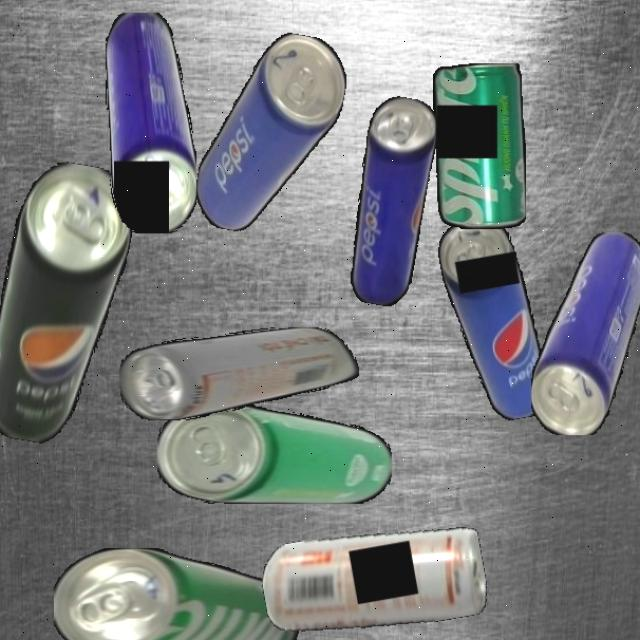debris: (0, 155, 142, 452), (190, 22, 353, 245), (257, 511, 491, 640), (434, 212, 551, 427), (157, 403, 392, 504), (119, 326, 359, 421), (54, 547, 299, 640), (339, 93, 443, 309), (530, 231, 640, 435), (105, 12, 196, 234), (432, 64, 526, 230)
